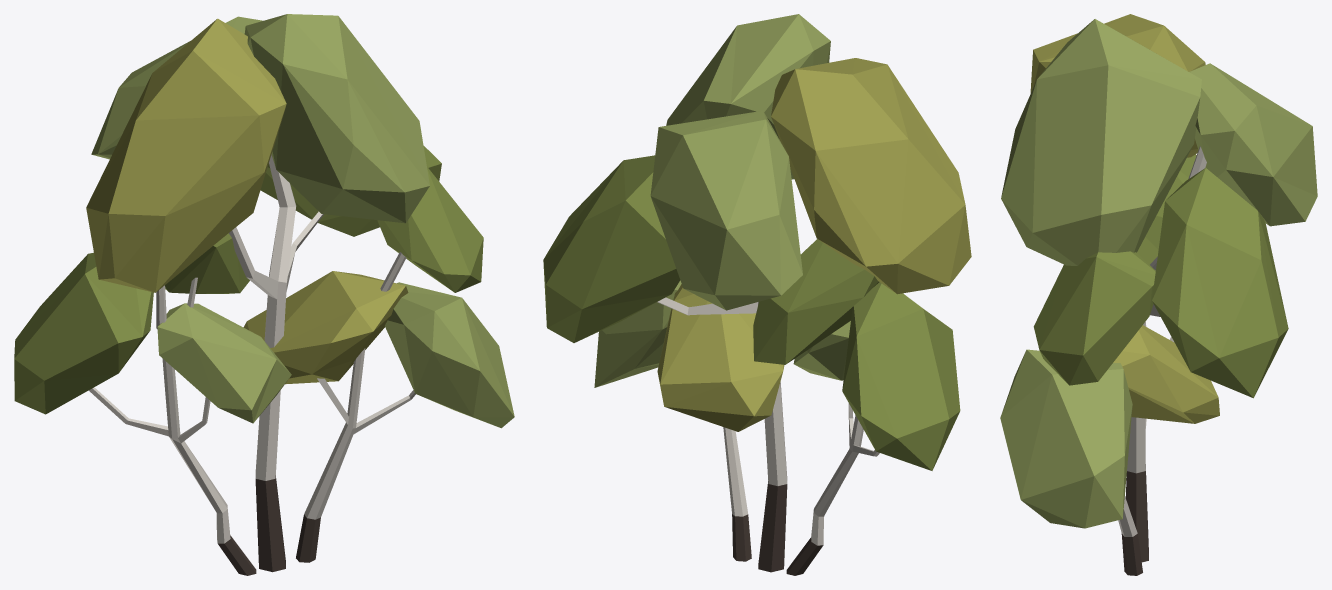
Rendered from Tree Type5 04.glb.
The picture shows the model from 3 angles, left to right: view 1: azimuth 30°, elevation 25°; view 2: azimuth 150°, elevation 25°; view 3: azimuth 270°, elevation 25°; orthographic projection. The views are drawn at different scales.
Visible parts, largest first — view 1: Tree_Type5_04_mesh; view 2: Tree_Type5_04_mesh; view 3: Tree_Type5_04_mesh.
Boxes of the visible parts, left/top/right/bottom form: Tree_Type5_04_mesh: left=14, top=14, right=514, bottom=575; Tree_Type5_04_mesh: left=543, top=14, right=971, bottom=575; Tree_Type5_04_mesh: left=1000, top=14, right=1317, bottom=575.
Size of the model in its own units: 3.08 by 3.92 by 2.1.
1 material, 1 textured.
